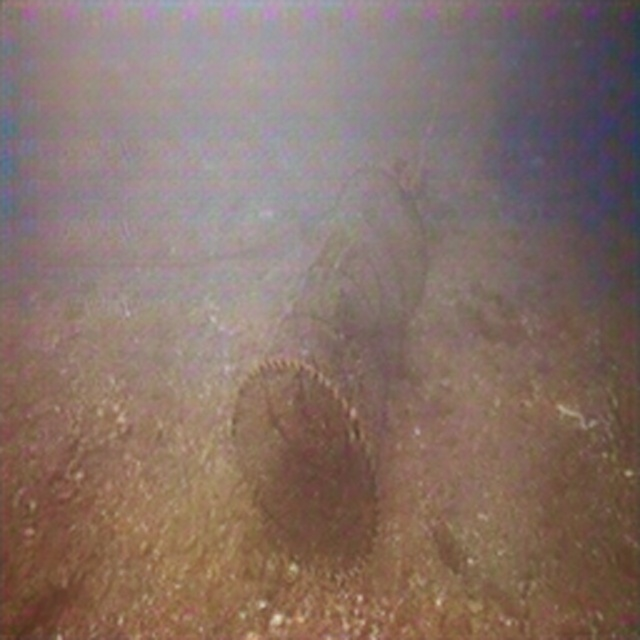mine: (231, 160, 431, 587)
